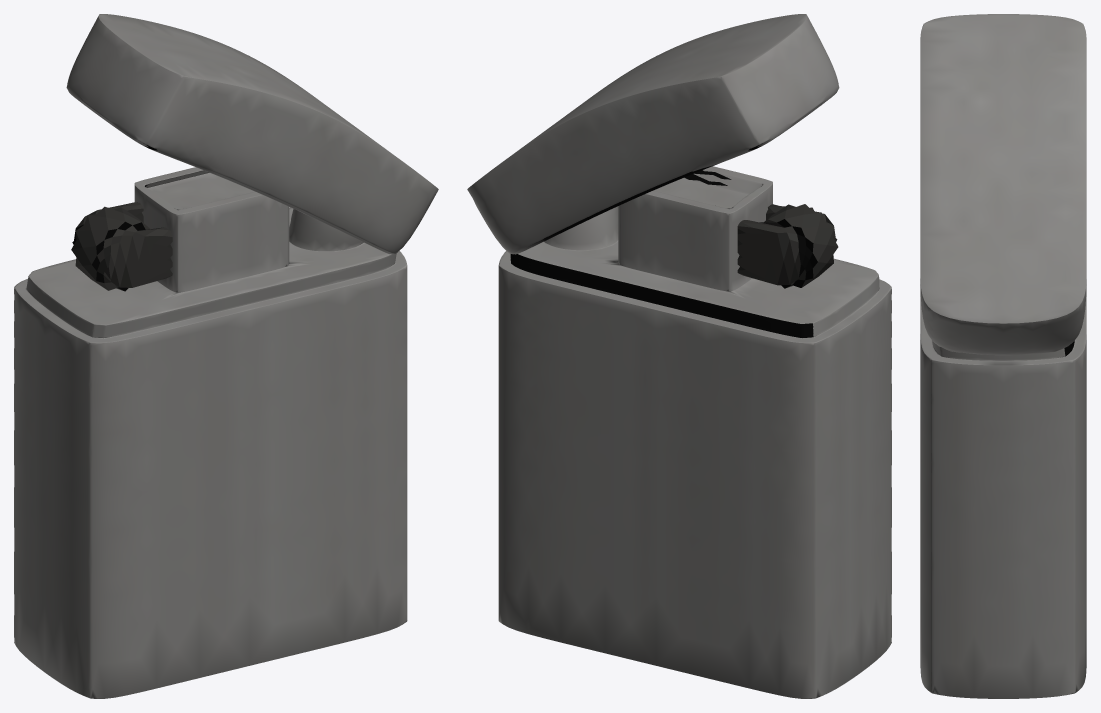
File: Esqueiro.fbx
3 renders of one model, left to right at view 1: azimuth 30°, elevation 25°; view 2: azimuth 150°, elevation 25°; view 3: azimuth 270°, elevation 25°, orthographic. The views are drawn at different scales.
Visible parts, largest first — view 1: Isqueiro_LOD0; view 2: Isqueiro_LOD0; view 3: Isqueiro_LOD0.
Boxes of the visible parts, x1,y1,x2,y2 form: Isqueiro_LOD0: (14,14,438,698); Isqueiro_LOD0: (467,14,891,698); Isqueiro_LOD0: (920,14,1086,698).
Size of what is drawn, in the model's own units: 8.5 by 13.5 by 3.58.
